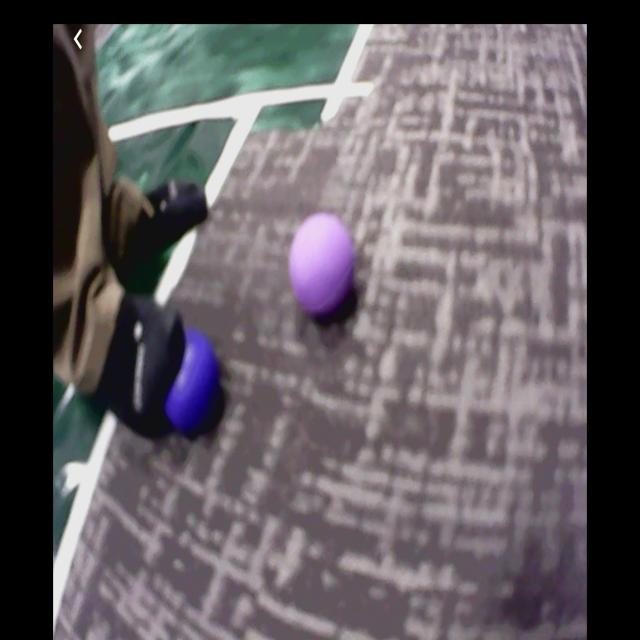ball: (290, 213, 357, 316), (157, 335, 224, 433)
